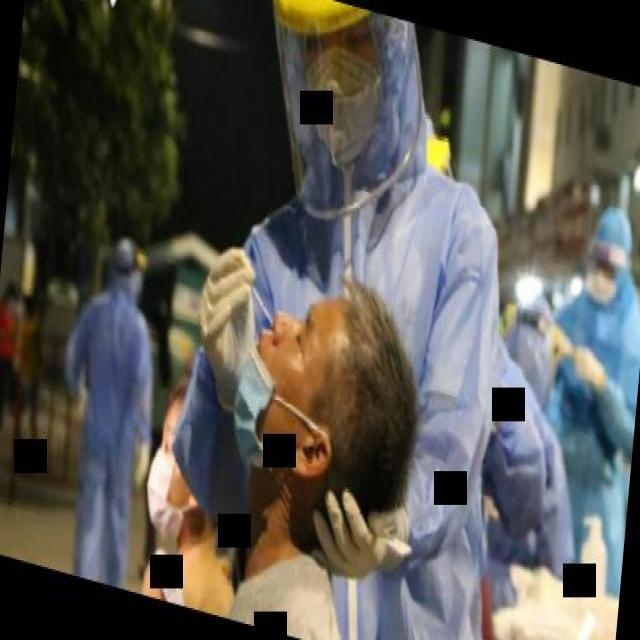hairnet: (234, 300, 298, 474)
